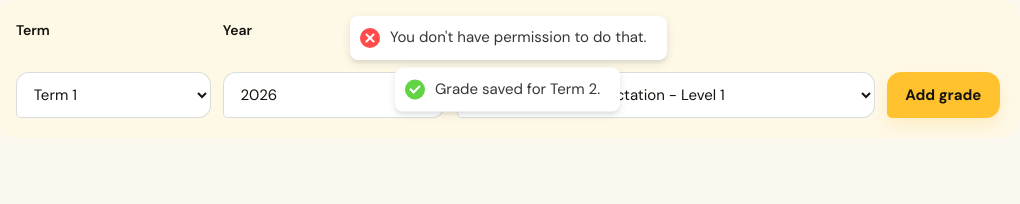
Test case: flagged My Progress dashboard › uses the standard connection toast when grade saving has no response
Step 1. Click the button "Add grade" → (943,95), box [887,72,1000,118]
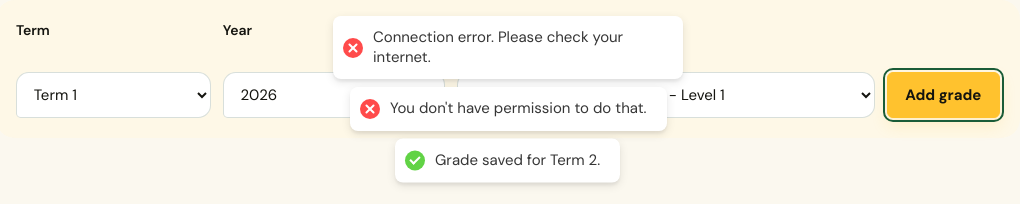
Now the text "Connection error. Please check your internet." is shown, box [373,28,663,67]
